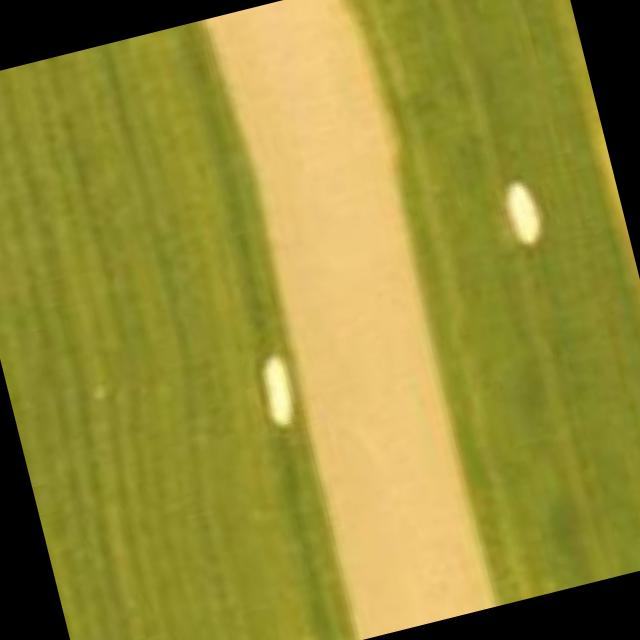whorl-maggot: (246, 346, 307, 441), (496, 168, 556, 255)
